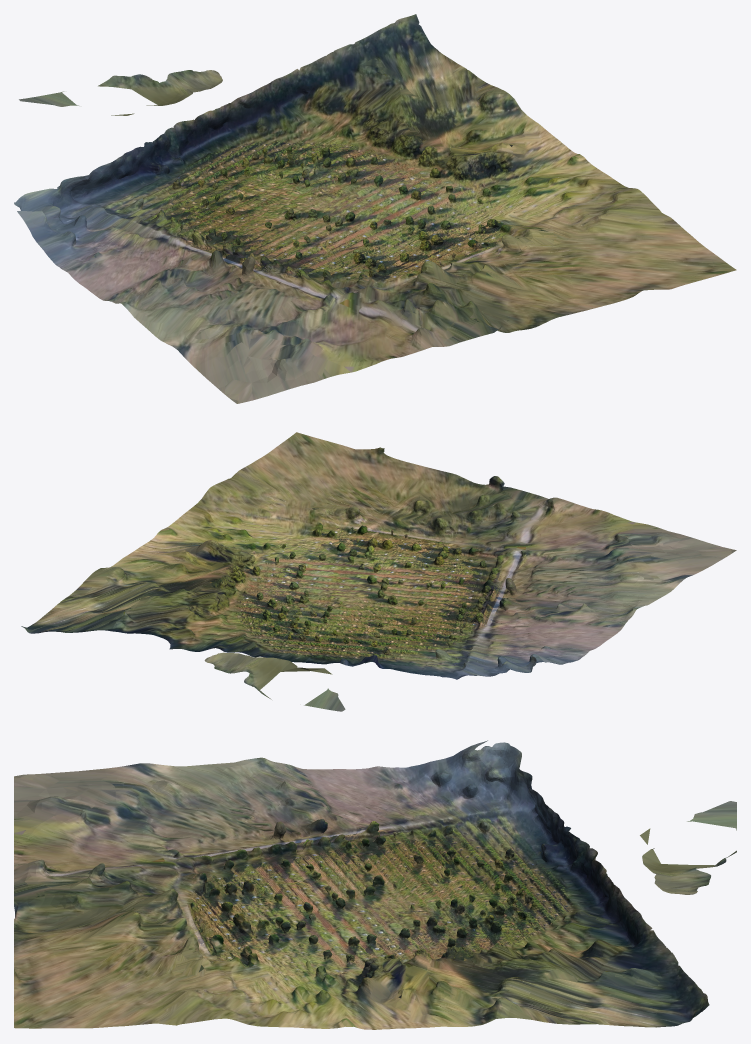
Rendered from lahan.glb.
The picture shows the model from 3 angles, top to bottom: view 1: azimuth 30°, elevation 25°; view 2: azimuth 150°, elevation 25°; view 3: azimuth 270°, elevation 25°; orthographic projection. The views are drawn at different scales.
Bounding box in the file's own units: 12592 × 805 × 14509.
1 material, 1 textured.
